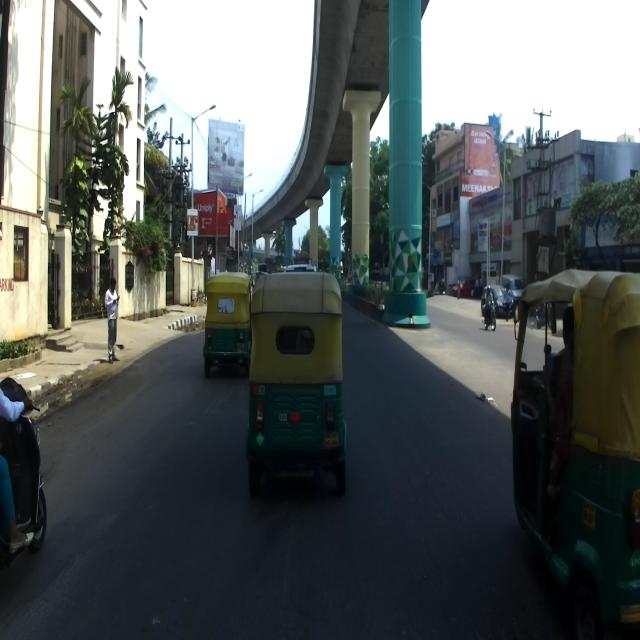auto ahead at: (511, 273, 640, 613), (247, 265, 345, 498), (202, 277, 246, 384)
